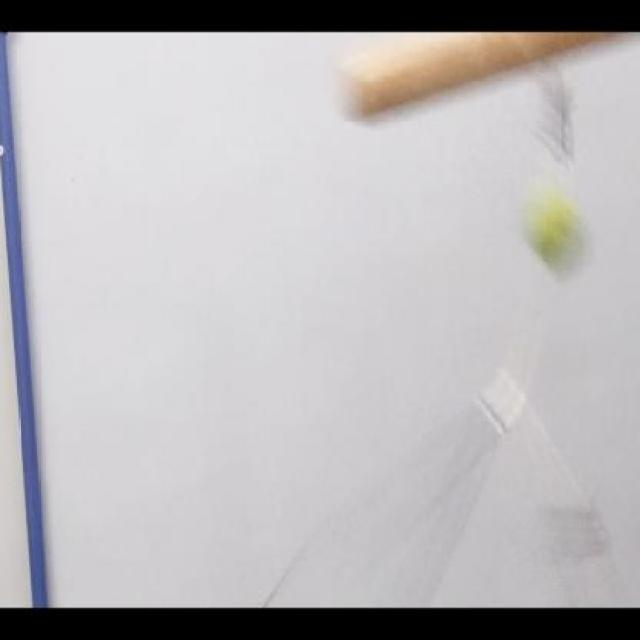baseball: (515, 197, 591, 278)
